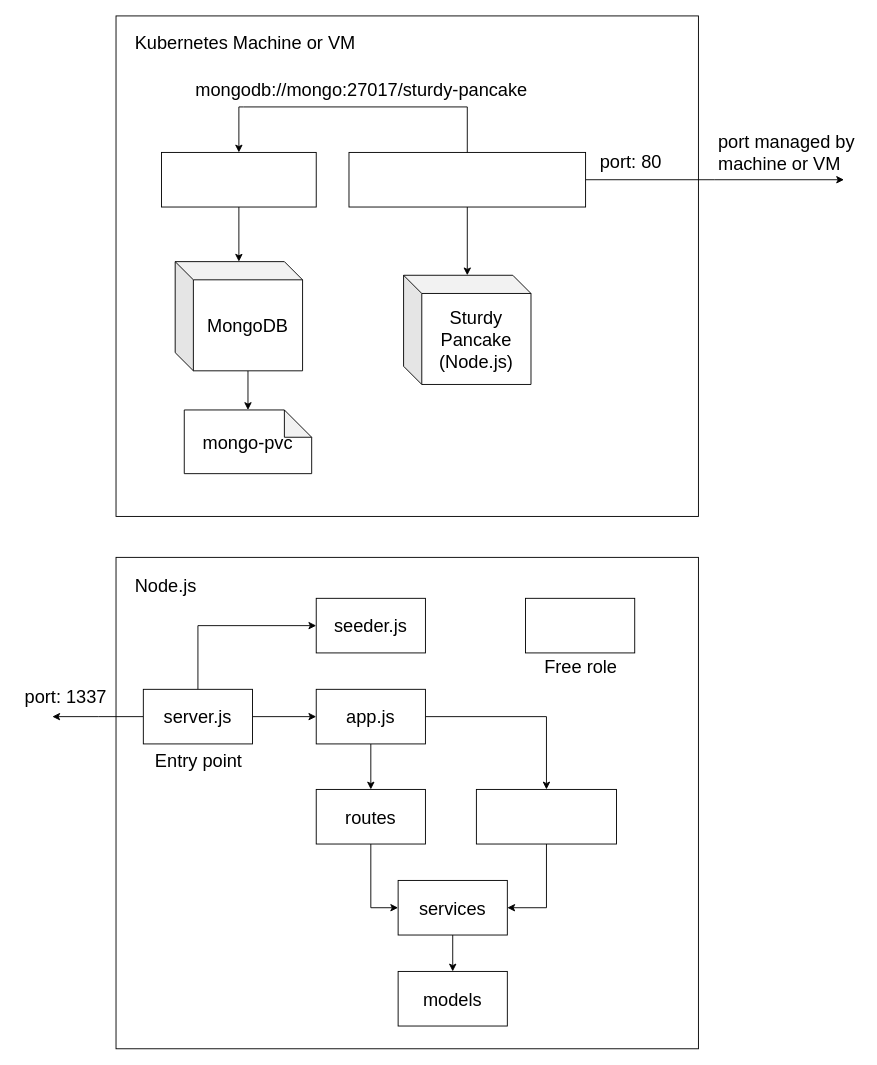
The diagram is 877 pixels wide and 1065 high, and some of its shapes have lost their labels. The box of each missing label's shape, as (x1, y1, x2, y2) in pixels:
helpers.js: (525, 597, 635, 653)
middlewares: (475, 789, 617, 844)
service: mongo: (161, 152, 316, 207)
service: sturdy-pancake: (348, 152, 586, 207)
